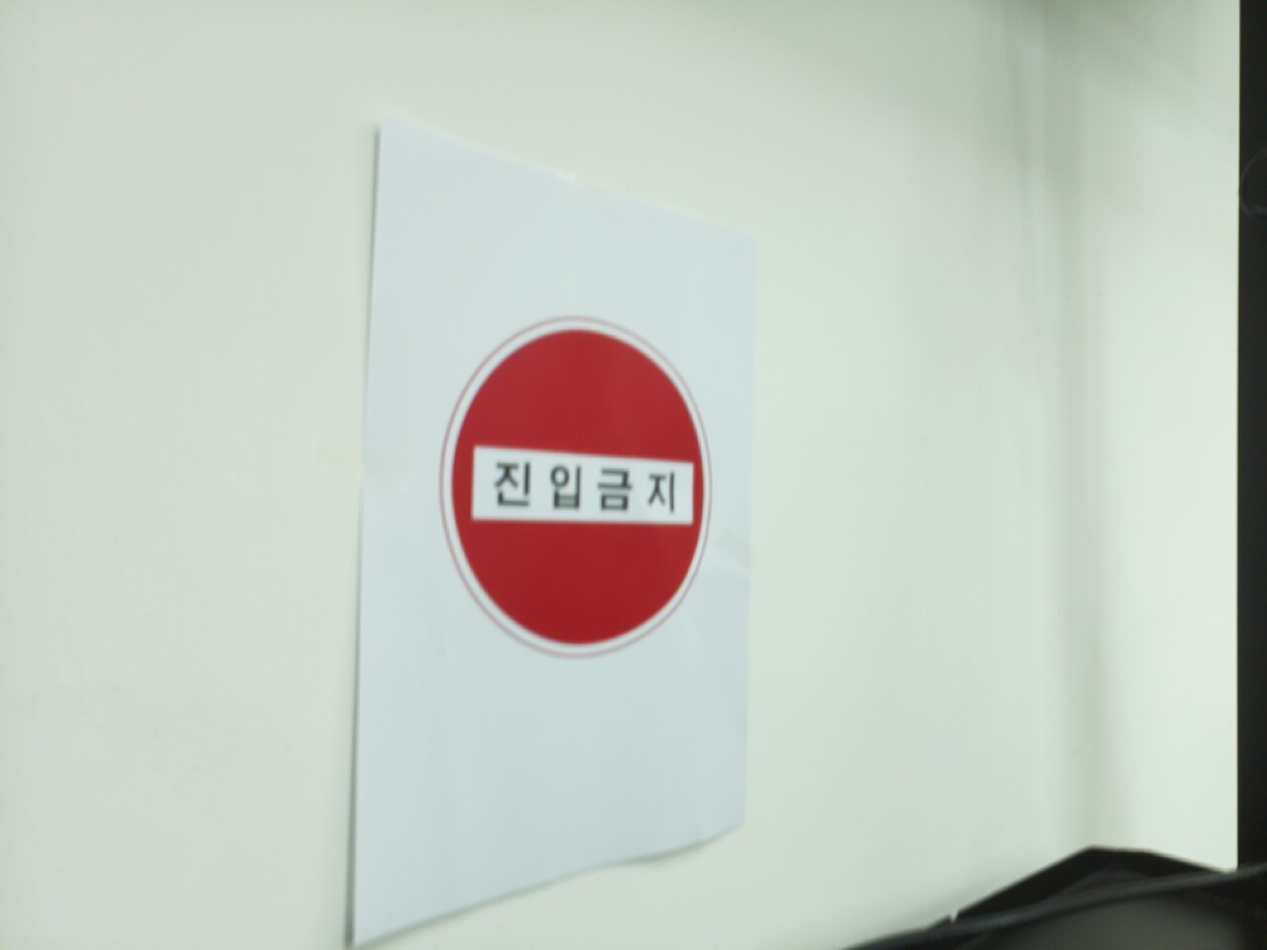do_not_enter: (442, 320, 713, 654)
